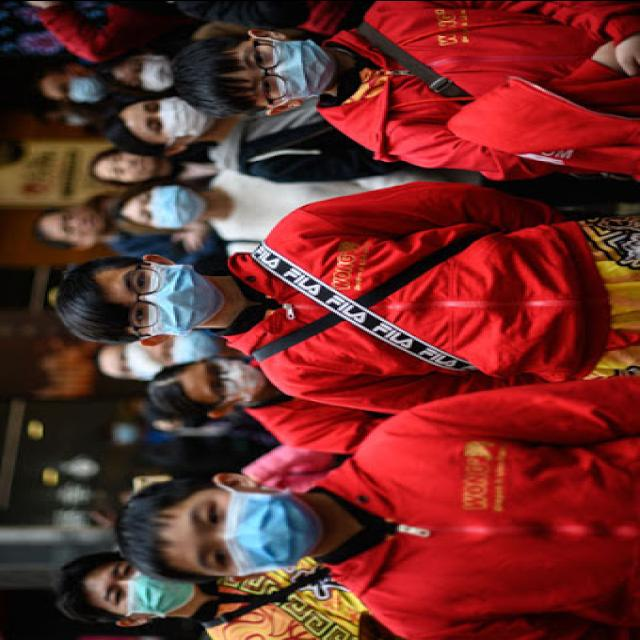with_mask: (185, 489, 312, 579), (117, 262, 220, 336), (234, 38, 332, 108), (100, 560, 196, 616), (137, 98, 213, 144), (200, 360, 264, 406), (136, 185, 200, 229), (150, 328, 220, 366), (110, 340, 162, 382), (128, 56, 179, 92), (52, 74, 100, 108)
without_mask: (56, 211, 102, 241), (106, 152, 152, 182)
